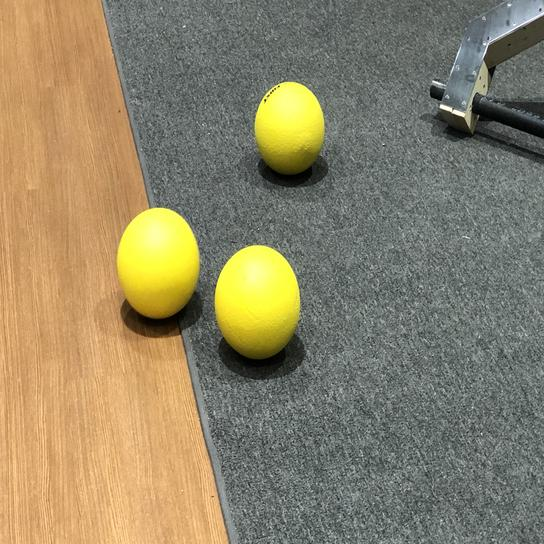ball: (210, 242, 302, 363), (114, 204, 201, 319), (252, 78, 325, 178)
